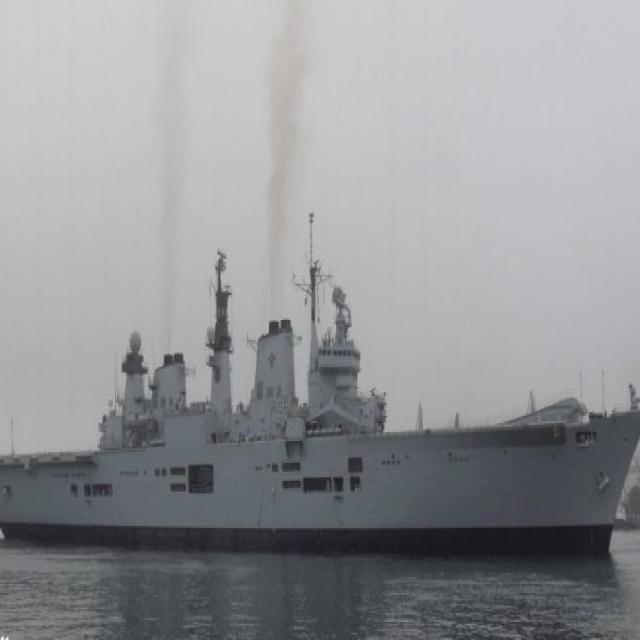Portanaves: (1, 198, 640, 563)
